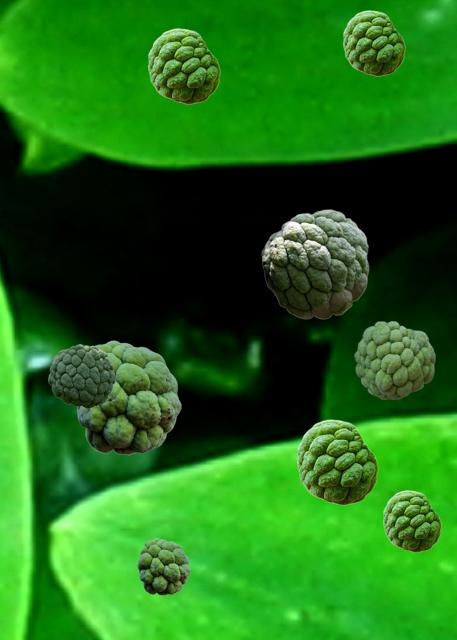atis: (76, 340, 180, 454), (261, 209, 368, 318), (297, 419, 377, 504), (354, 321, 434, 398), (148, 28, 219, 103), (48, 344, 114, 407), (343, 10, 404, 75), (383, 490, 440, 551), (137, 538, 189, 594)
